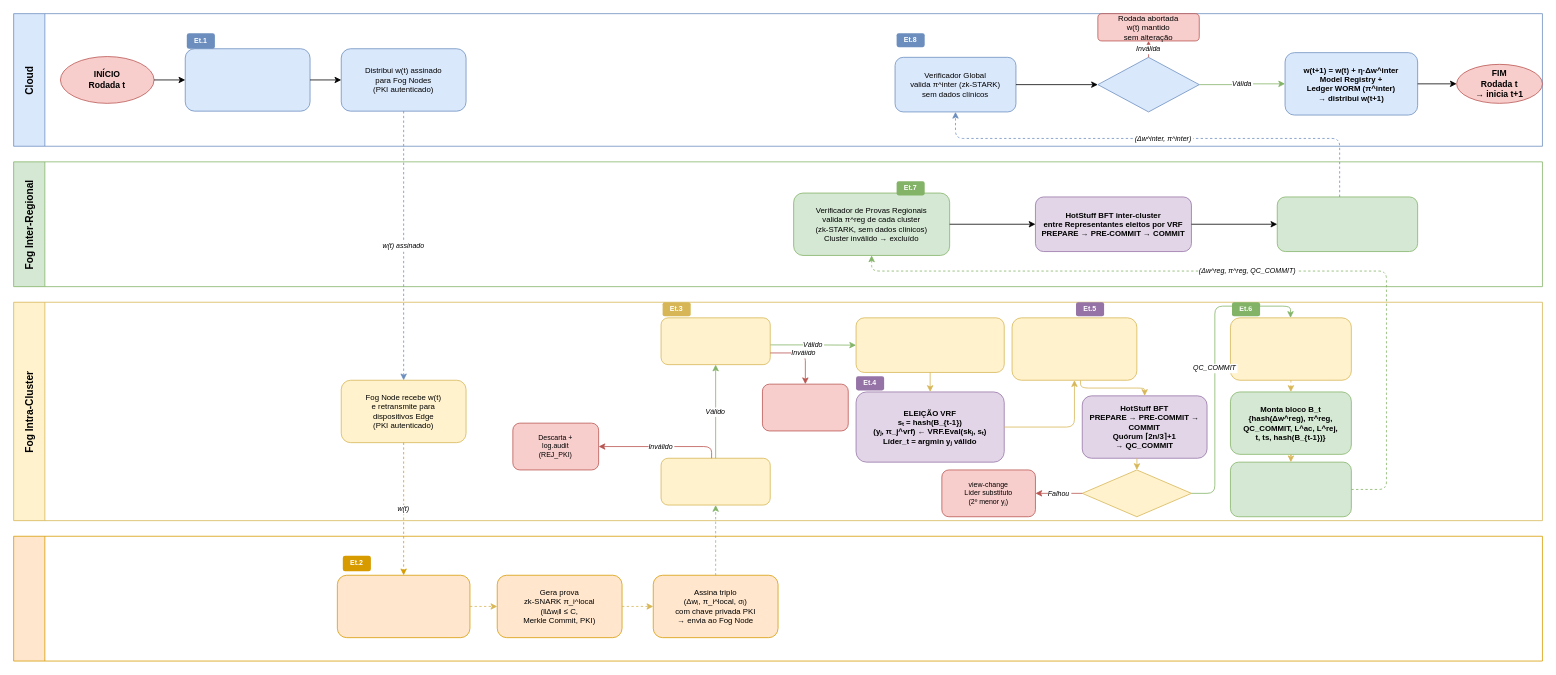
This 1556x675 diagram has some shape labels left out. Each missing label, with the box of its shape:
Descarta + log.audit (REJ_ZKP): (762, 383, 848, 431)
Dispositivo Edge i treina sobre 𝒟ᵢ computa Δwᵢ = ∇ℒ(w(t); 𝒟ᵢ) (dados NÃO saem): (337, 574, 470, 638)
Edge (Dispositivos IoMT): (13, 535, 1542, 661)
FedAvg ponderado Δw^inter = Σ (n_c/N)·Δw_c^reg + gera π^inter (zk-STARK): (1276, 196, 1418, 252)
Gera prova zk-STARK π^reg (~68KB) (hash(Δw^reg), QC_COMMIT, t, n, f): (1230, 317, 1351, 380)
Global Identity Service assina w(t) com chave privada CA raiz (PKI): (184, 48, 310, 111)
Ledger Peers validam QC_COMMIT → Append(B_t) (ledger replicado): (1230, 461, 1351, 517)
Líder coleta {Δgⱼ} de todos os Fog Nodes Multi-Krum inter-nós → Δw^reg: (1011, 317, 1137, 380)
Multi-Krum Local seleciona m = n-f gradientes → Δgⱼ , L^ac , L^rej: (855, 317, 1004, 372)
PKI Verifier valida assinatura σᵢ: (660, 457, 770, 505)
Prova válida?: (1097, 57, 1199, 112)
QC_COMMIT?: (1081, 469, 1191, 517)
zk-SNARK Verifier valida π_i^local (<5ms): (660, 317, 770, 365)
